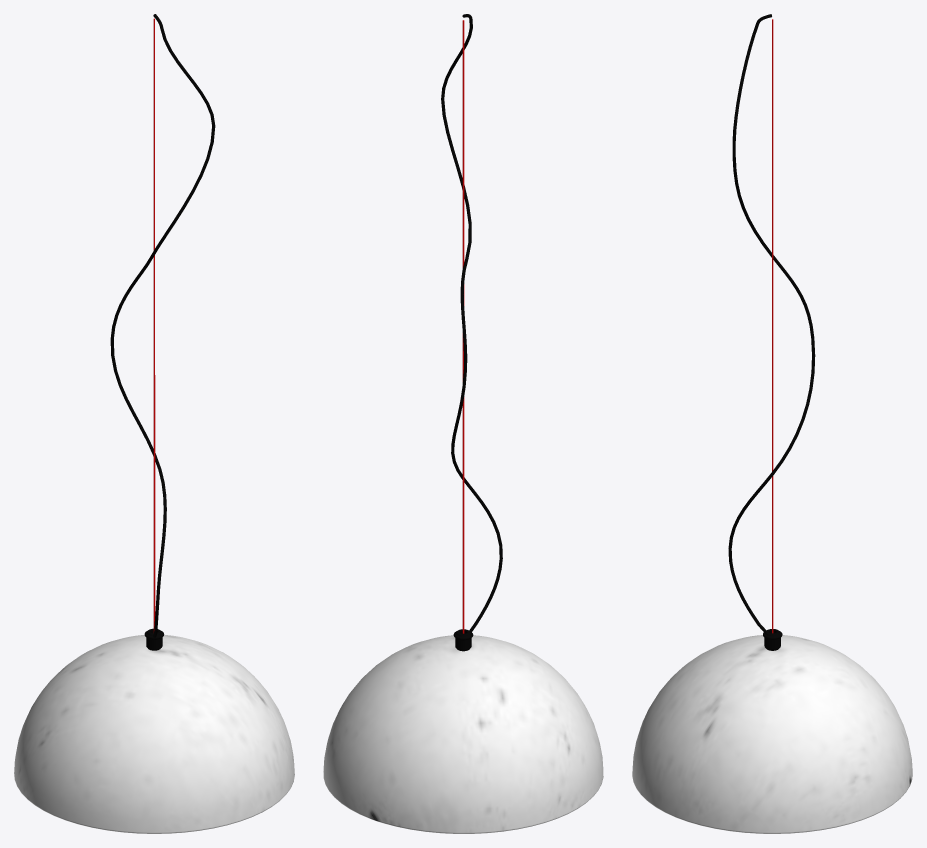
Rendered from Lampara.obj.
3 renders of one model, left to right at view 1: azimuth 30°, elevation 25°; view 2: azimuth 150°, elevation 25°; view 3: azimuth 270°, elevation 25°, orthographic.
Visible parts, largest first — view 1: Sphere002, Line002, Cylinder089; view 2: Sphere002, Line002, Cylinder089; view 3: Sphere002, Line002, Cylinder089.
Part boxes in pixels (left/top/right/bottom): Sphere002: left=14, top=635, right=294, bottom=833; Line002: left=110, top=14, right=215, bottom=637; Cylinder089: left=153, top=18, right=155, bottom=632; Sphere002: left=323, top=635, right=603, bottom=833; Line002: left=441, top=14, right=502, bottom=632; Cylinder089: left=462, top=20, right=464, bottom=633; Sphere002: left=632, top=635, right=912, bottom=833; Line002: left=728, top=14, right=815, bottom=632; Cylinder089: left=772, top=19, right=773, bottom=633.
Bounding box in the file's own units: 1.56 × 4.67 × 1.56.
